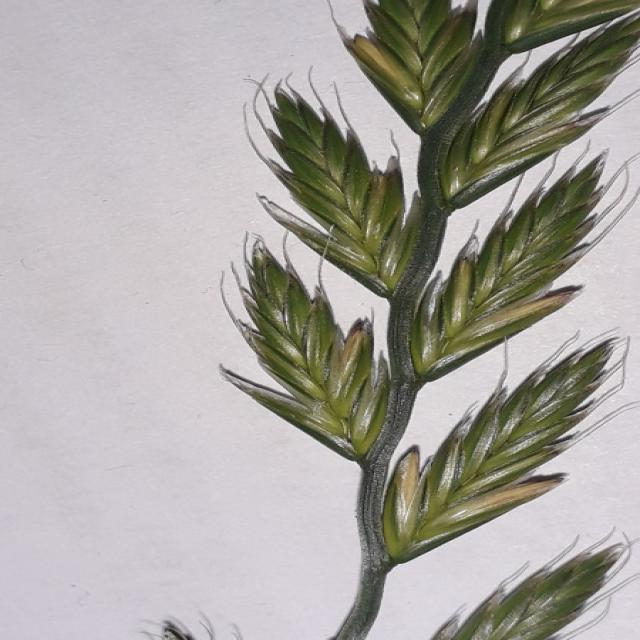Lolium: (211, 1, 637, 638)
